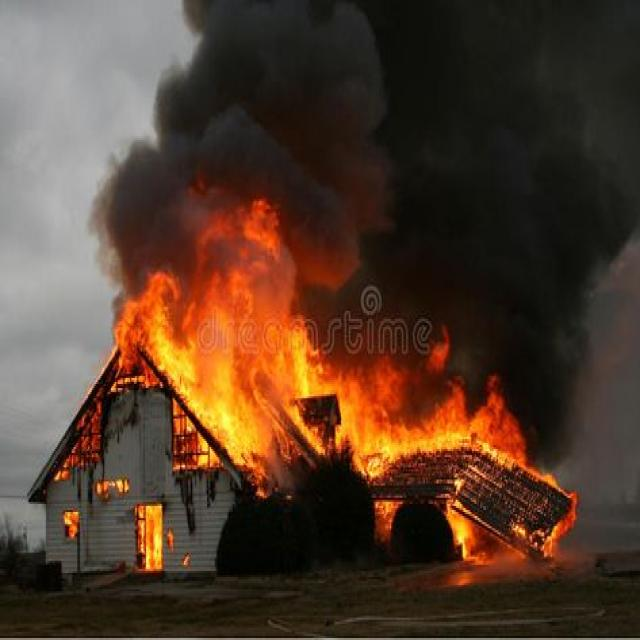Fire: (46, 286, 632, 610), (99, 0, 640, 276)
